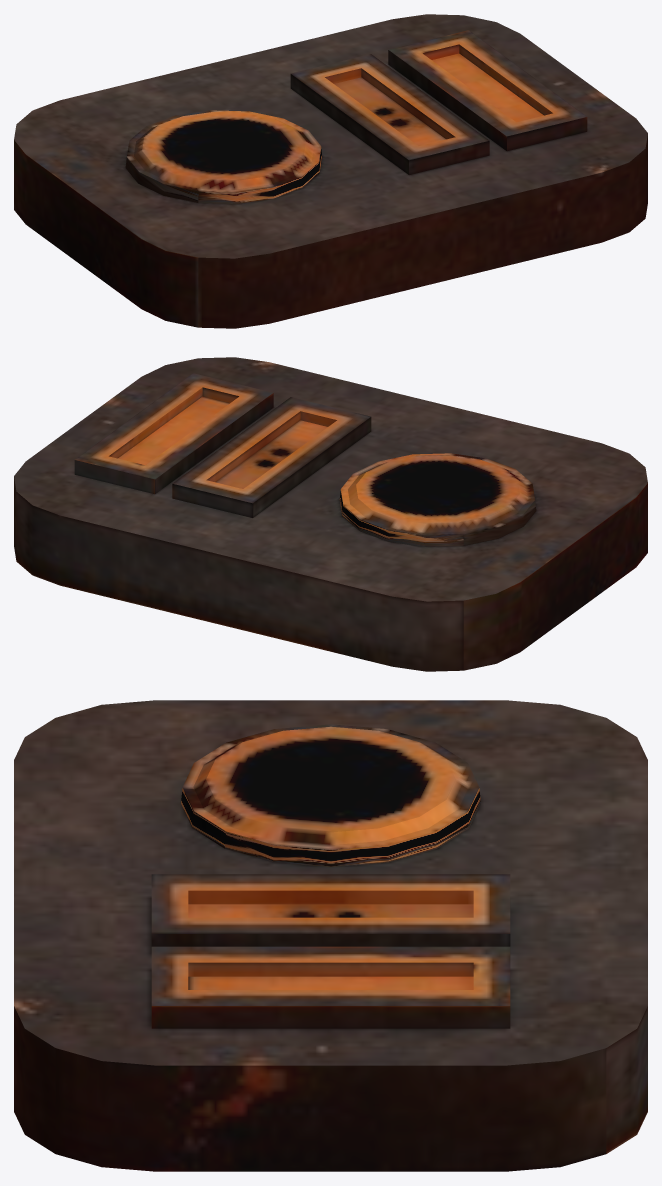
The model's file is panel.glb.
3 views of the same model, one above another, from view 1: azimuth 30°, elevation 25°; view 2: azimuth 150°, elevation 25°; view 3: azimuth 270°, elevation 25° (orthographic). The views are drawn at different scales.
Parts seen in each view (by area): view 1: Panel.001; view 2: Panel.001; view 3: Panel.001.
Part boxes in pixels (x1,y1,x2,y2): Panel.001: (14, 14, 647, 328); Panel.001: (14, 357, 647, 671); Panel.001: (14, 700, 647, 1171).
Size of the model in its own units: 0.7161 by 0.1397 by 0.5252.
1 material, 1 textured.
